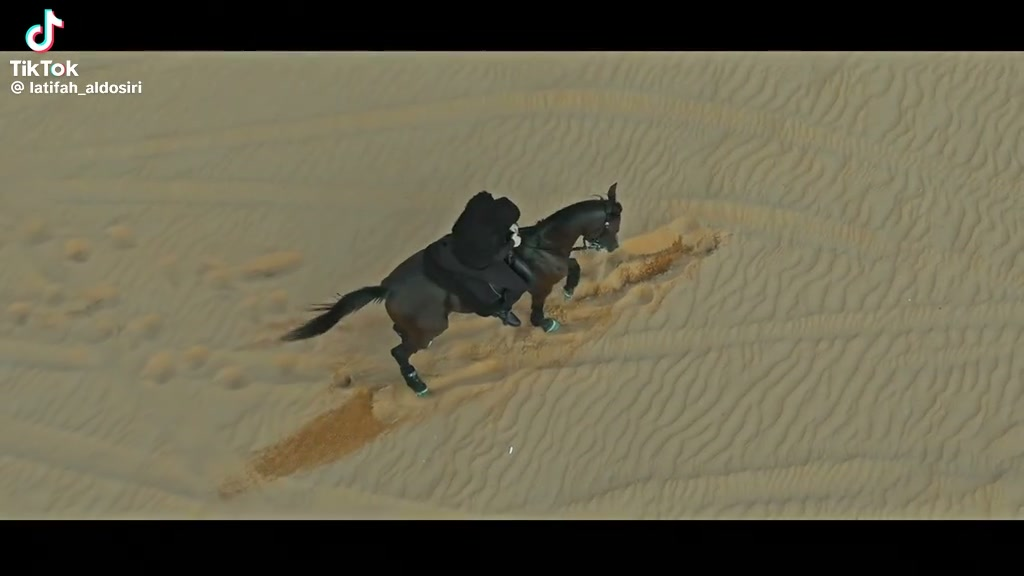animal: (281, 249, 472, 396)
human: (451, 191, 528, 326)
vehicle_track: (65, 83, 996, 189), (86, 172, 968, 268), (14, 404, 491, 521), (521, 452, 1001, 530), (582, 303, 1023, 368)
